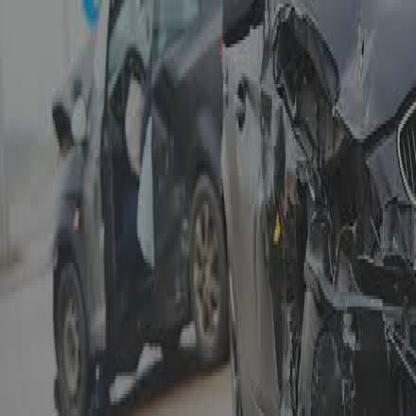dent: (260, 13, 377, 367)
